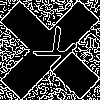K: (25, 25, 81, 81)
